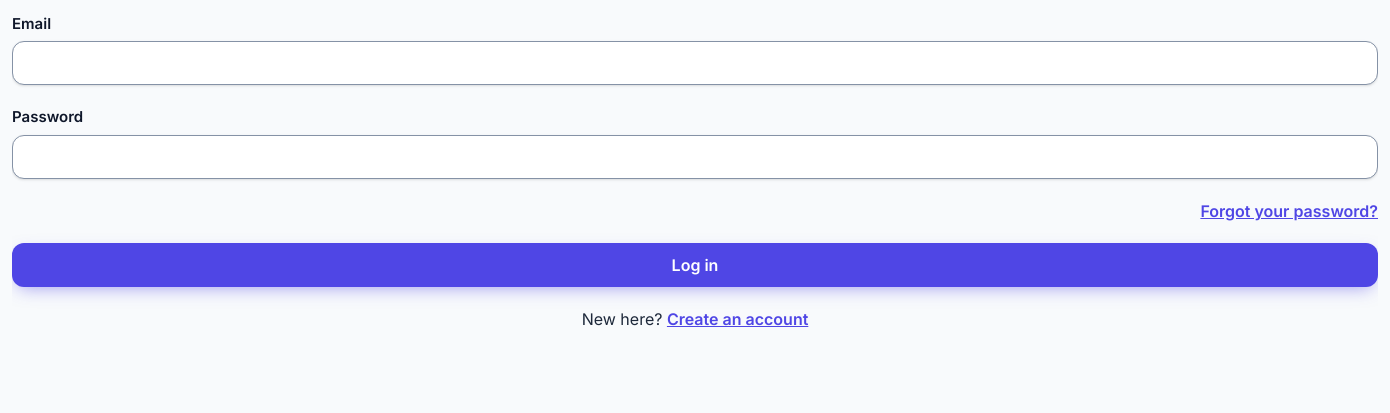
Scenario: LogInForm › shows the generic credentials message
Type "maya@example.test" into the field with test id "login-email-input" at (695, 63), box [12,41,1378,85]
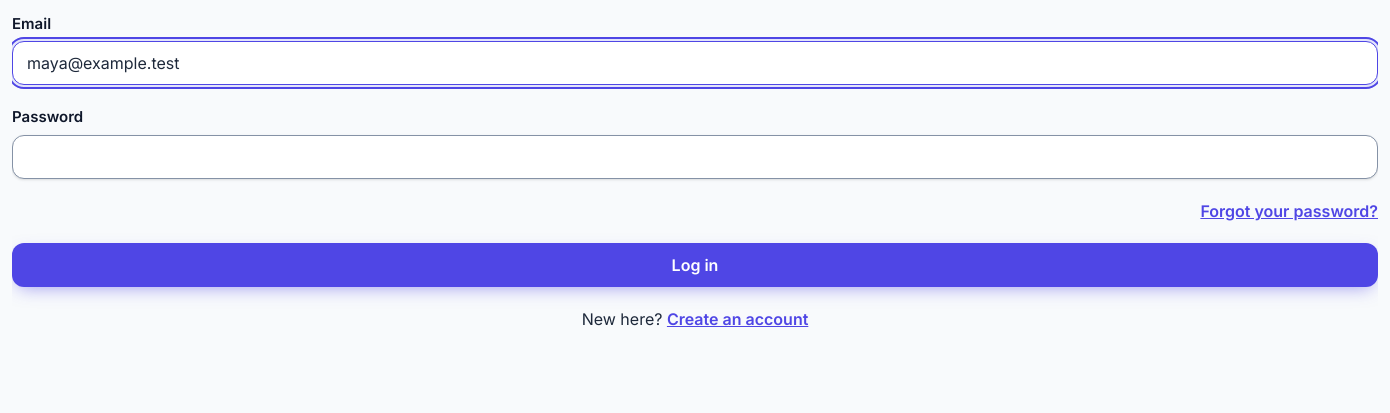
Type "wrong" into the password field with test id "login-password-input" at (695, 156), box [12,134,1378,178]
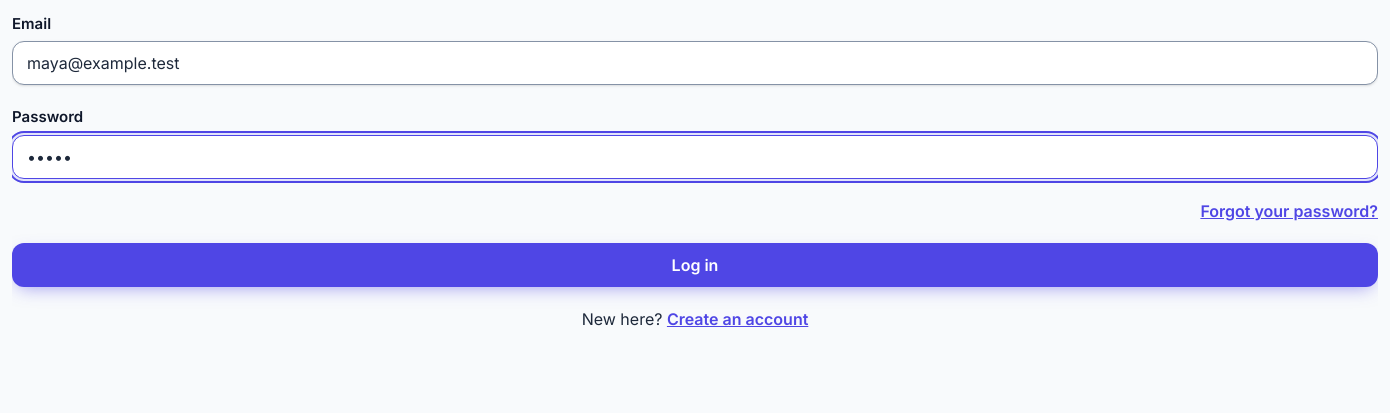
Click the button with test id "login-submit-button" at (695, 264), box [12,242,1378,286]
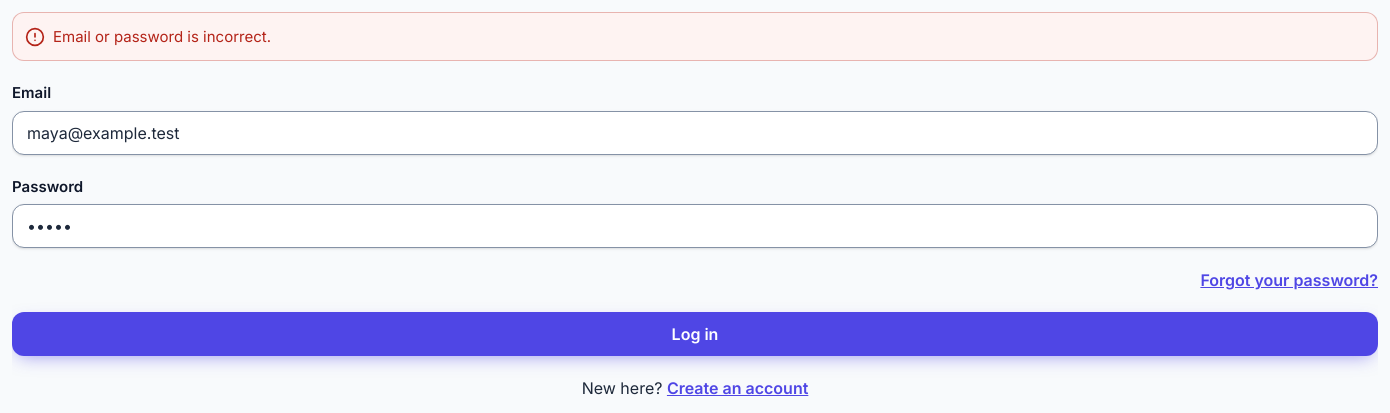
Check: the message with test id "login-form-error" reads "Email or password is incorrect.", box [53,27,271,46]
Check: the message "Email or password is incorrect." is shown, box [12,12,1378,61]
